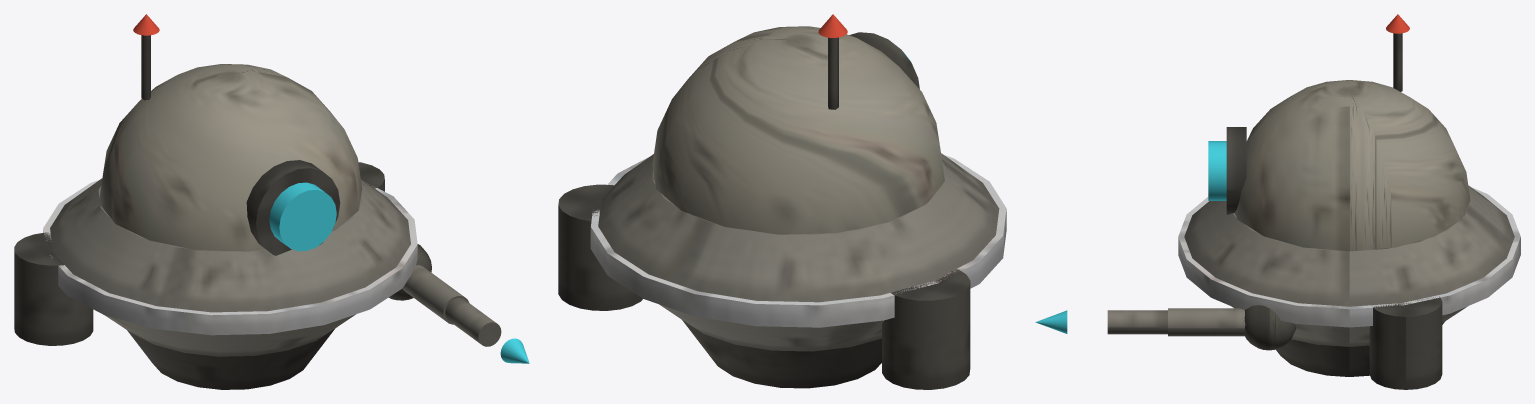
3 views of the same model, side by side, from view 1: azimuth 30°, elevation 25°; view 2: azimuth 150°, elevation 25°; view 3: azimuth 270°, elevation 25° (orthographic). The views are drawn at different scales.
Parts seen in each view (by area): view 1: dweller_robot_drone; view 2: dweller_robot_drone; view 3: dweller_robot_drone.
Boxes of the visible parts, bbox=[...] form: dweller_robot_drone: bbox=[14, 14, 529, 389]; dweller_robot_drone: bbox=[558, 14, 1006, 389]; dweller_robot_drone: bbox=[1035, 14, 1520, 389].
Size of the model in its own units: 0.94 by 0.84 by 1.2.
Materials: 6 (6 with a texture image).
